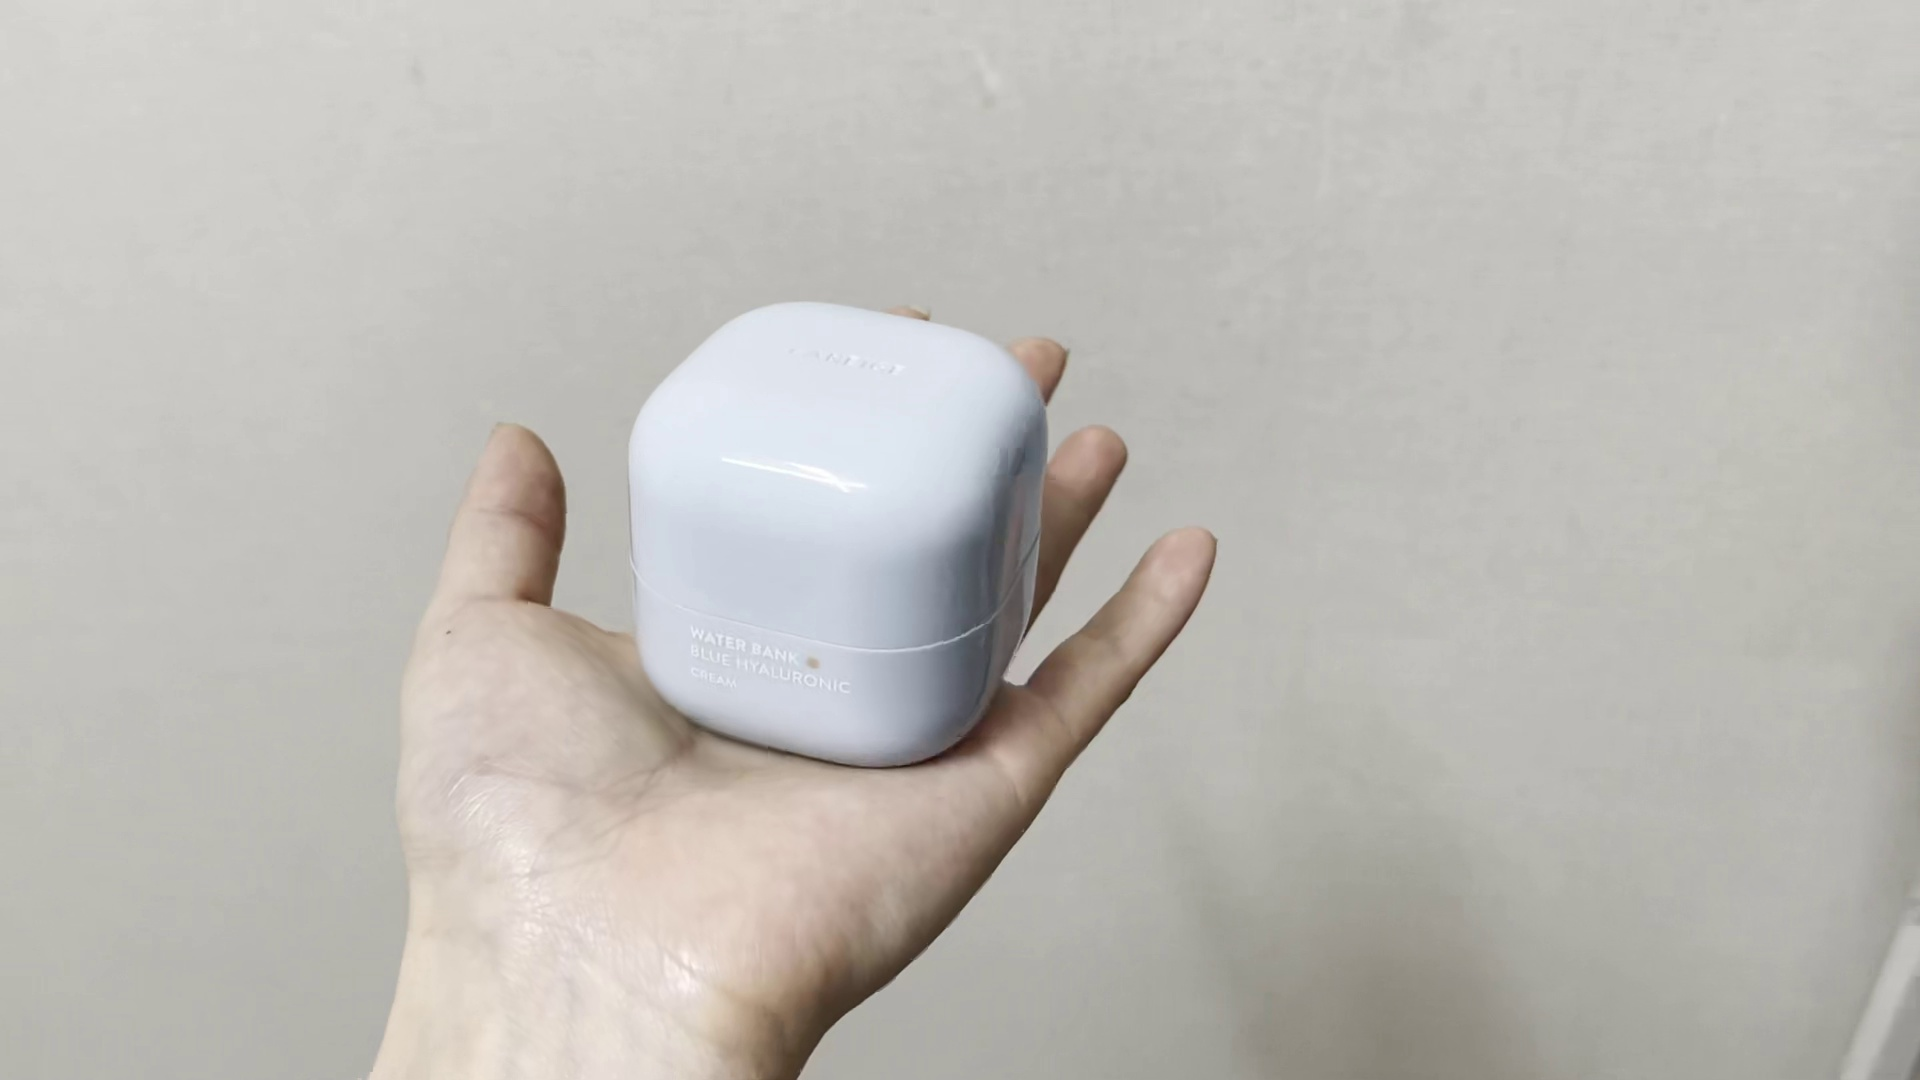cream: (622, 301, 1052, 767)
